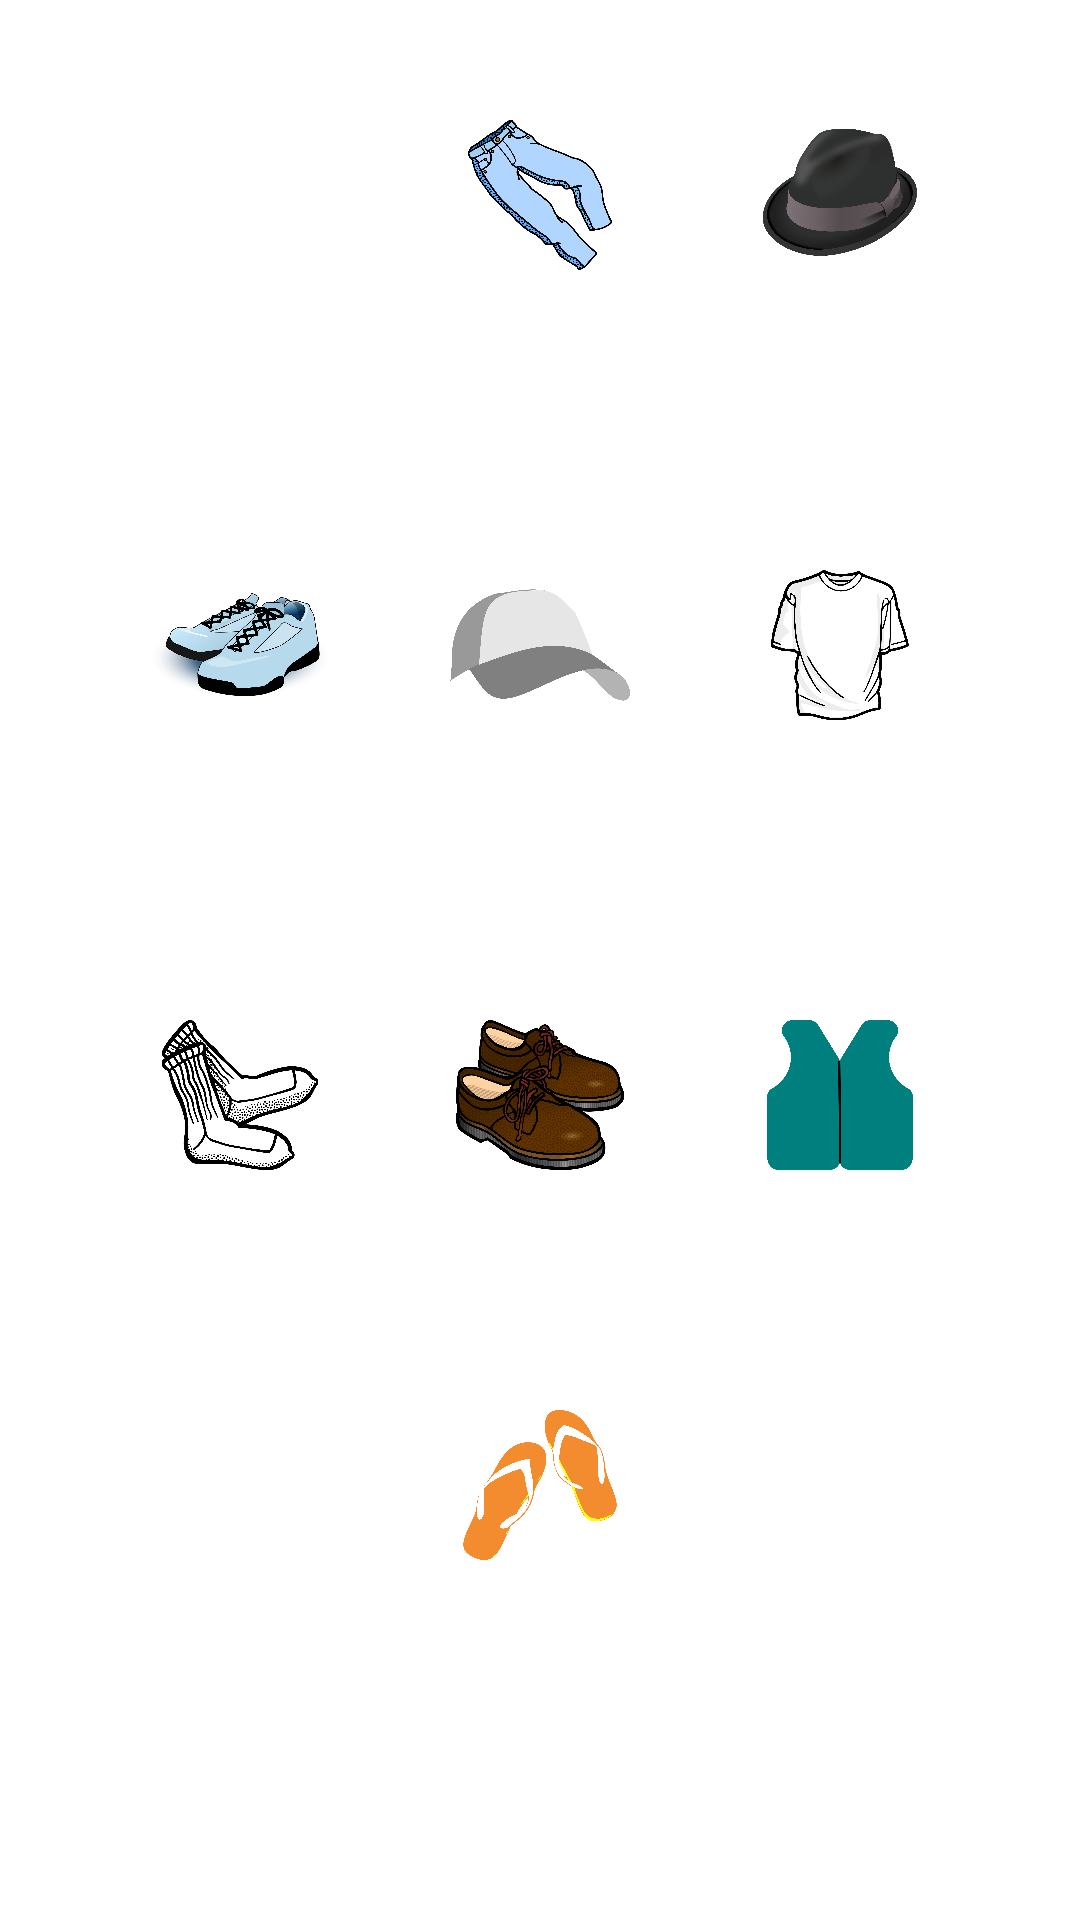

Named icons in this screenshot (1080x1920) and their centers, (x,y):
calcetin: (240,1095)
camisa: (840,645)
chaleco: (840,1095)
chanclas: (540,1485)
gorra: (540,645)
pantalon: (540,195)
sombrero: (840,192)
tenis: (243,644)
zapatos: (540,1095)
